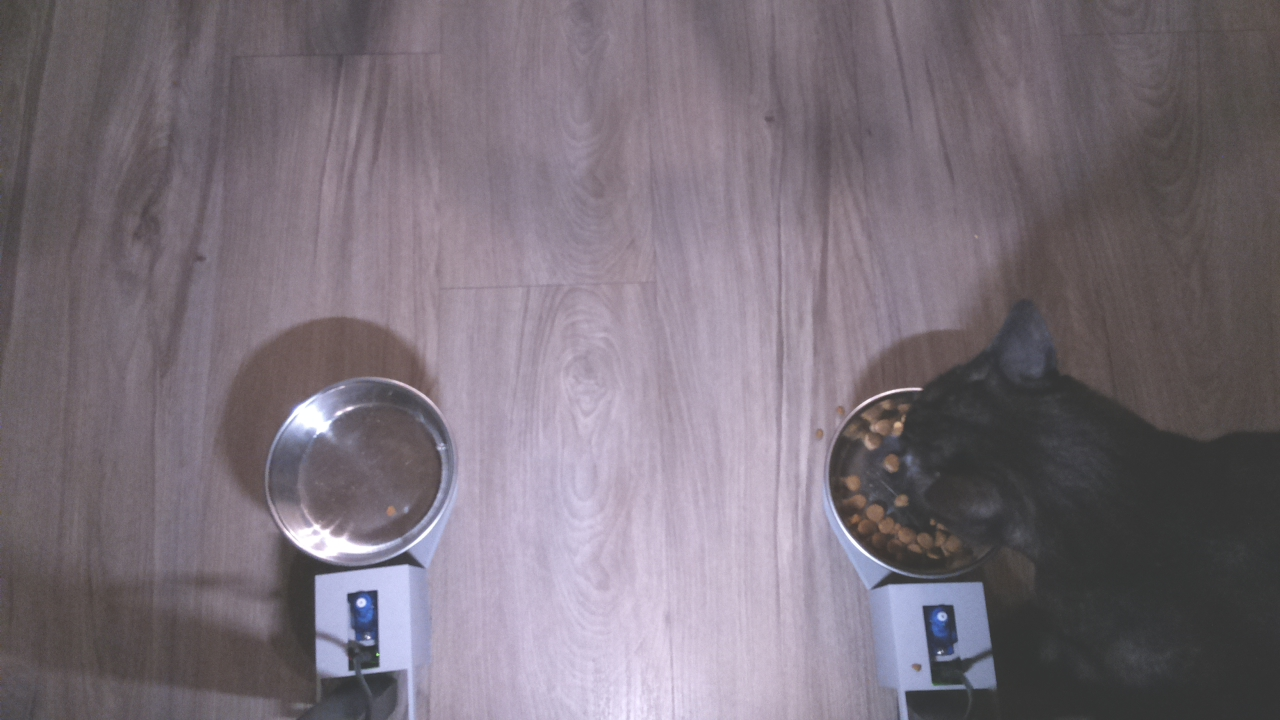open_bowl: (257, 373, 463, 573)
saki_eating: (820, 289, 1113, 597)
